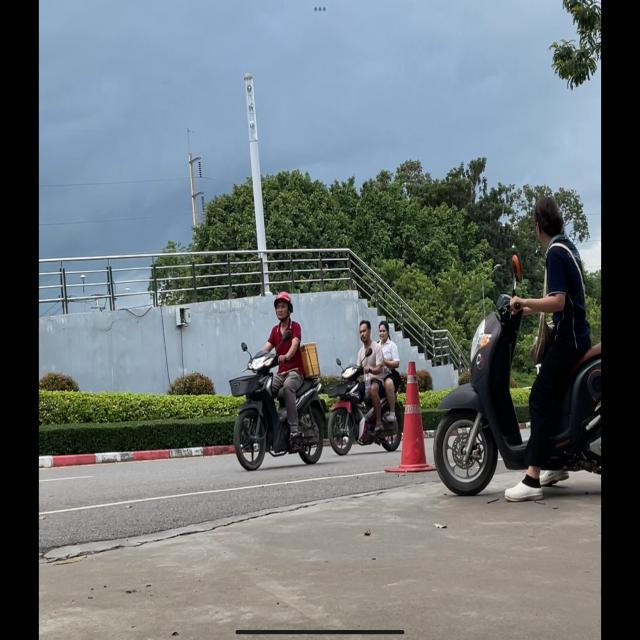no-seatbelt: (274, 290, 294, 322)
seatbelt: (532, 194, 564, 244), (358, 319, 371, 342), (378, 320, 389, 341)
